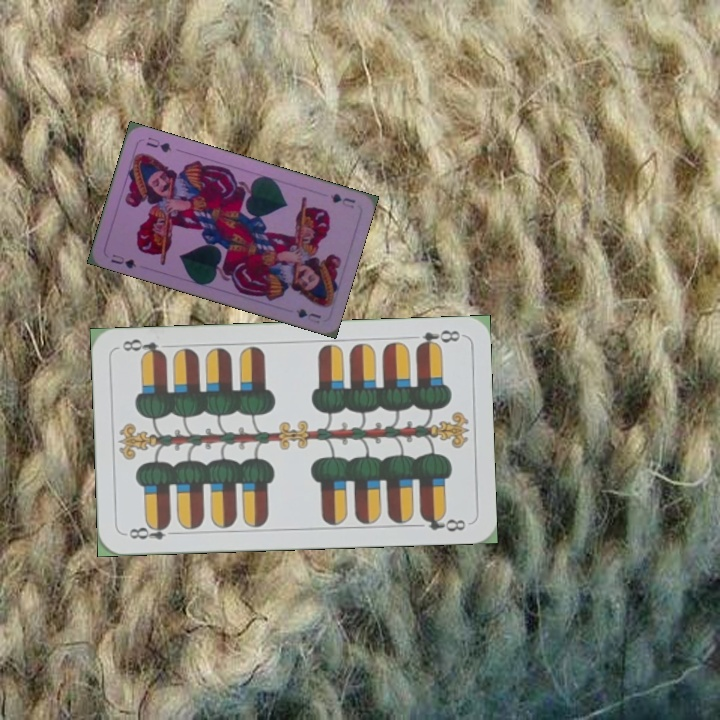E8: (122, 519, 181, 542), (412, 325, 462, 351)
GU: (326, 189, 358, 211), (106, 250, 139, 271)
